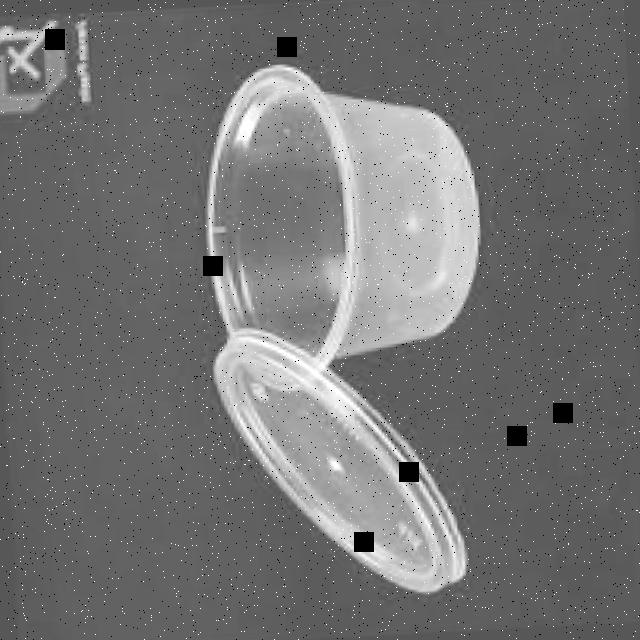plastic_box: (198, 59, 495, 604)
